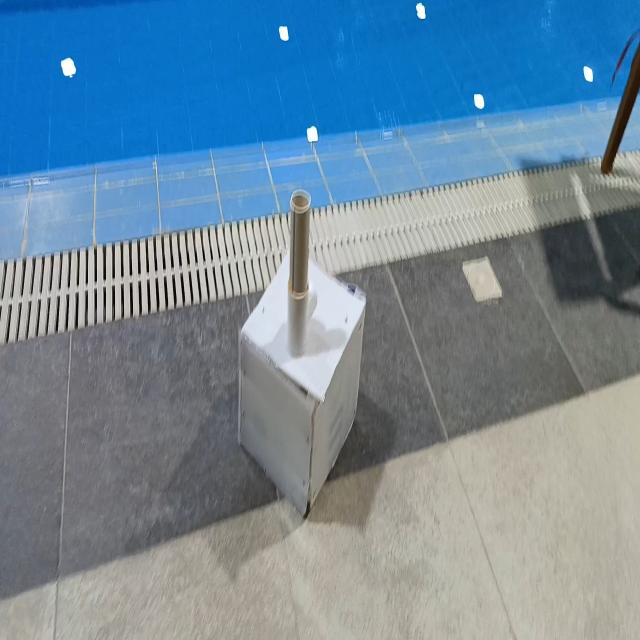Cube: (236, 248, 367, 518), (60, 56, 76, 78)
